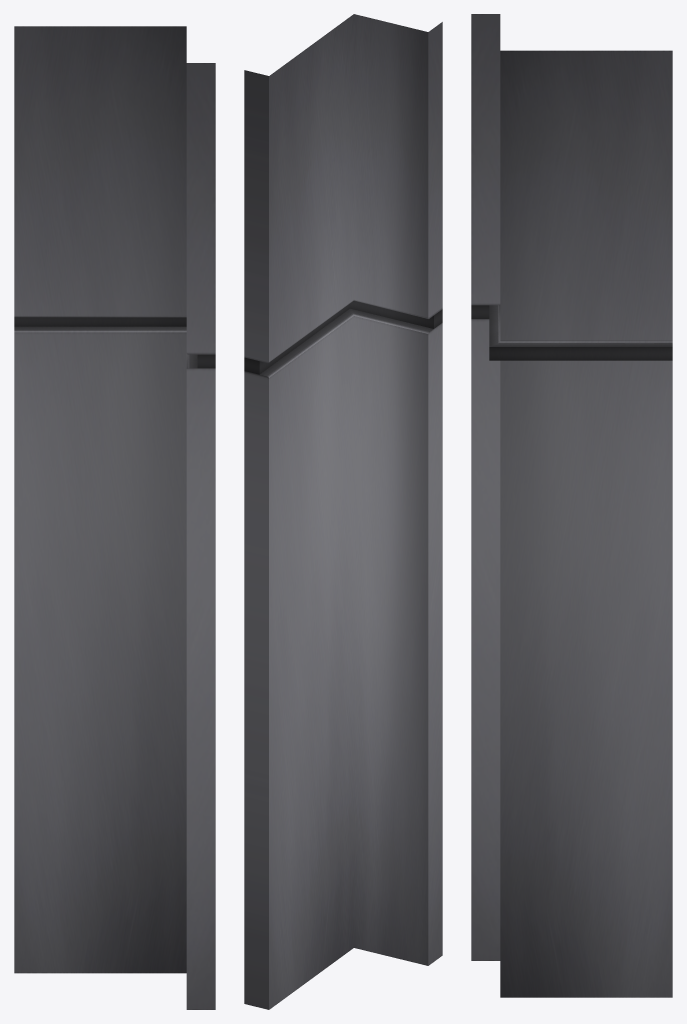
The model's file is COR_RIN_HB.fbx.
The picture shows the model from 3 angles, left to right: view 1: azimuth 90°, elevation 25°; view 2: azimuth 150°, elevation 25°; view 3: azimuth 270°, elevation 25°; orthographic projection.
Parts seen in each view (by area): view 1: COR_RIN_HB; view 2: COR_RIN_HB; view 3: COR_RIN_HB.
Part boxes in pixels (x1=…): COR_RIN_HB: x1=14, y1=26, x2=215, y2=1009; COR_RIN_HB: x1=244, y1=14, x2=442, y2=1009; COR_RIN_HB: x1=471, y1=14, x2=672, y2=997.
Bounding box in the file's own units: 0.5 × 4.5 × 0.866.
1 material, 1 textured.
